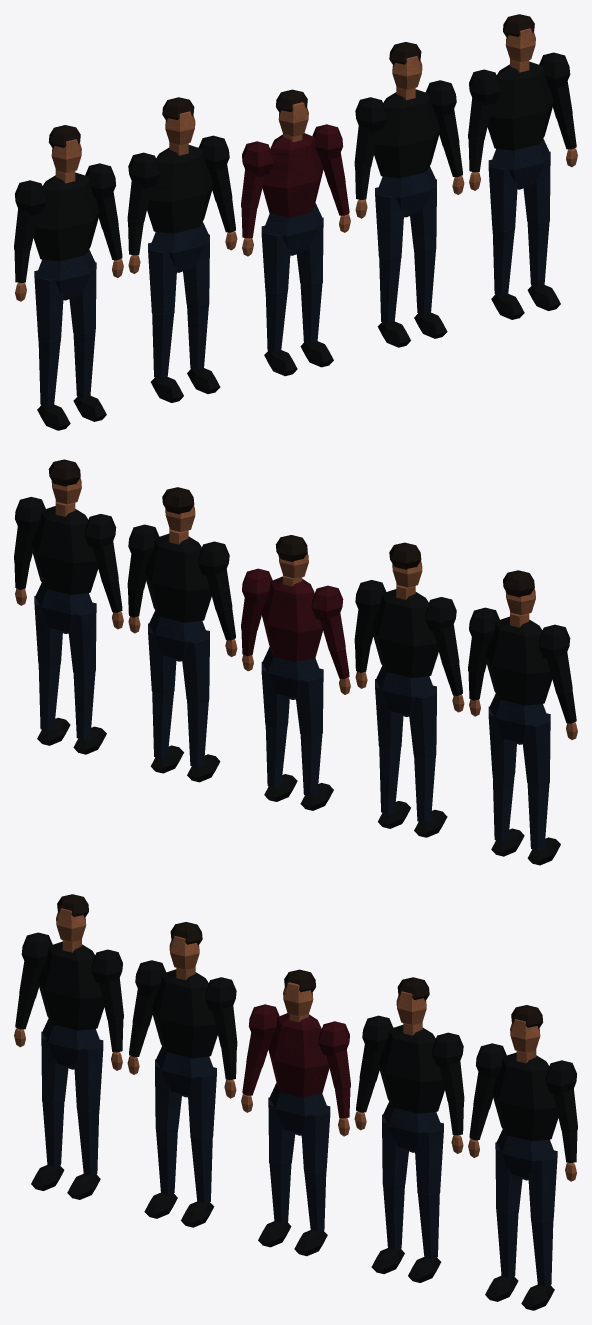
File: PROP-CF476531CEB6_lod2.glb
3 renders of one model, top to bottom at view 1: azimuth 30°, elevation 25°; view 2: azimuth 150°, elevation 25°; view 3: azimuth 330°, elevation 25°, orthographic.
Visible parts, largest first — view 1: torso.011, thigh.010, calf.010, pelvis.010, shoulder.011, shoe.010, upper_arm.011, head.010, torso.012, forearm.011, hair_cap.010, hand.010 (+4 smaller); view 2: torso.011, thigh.010, calf.010, pelvis.010, shoulder.011, shoe.010, upper_arm.011, torso.012, hair_cap.010, forearm.011, head.010, shoulder.012 (+4 smaller); view 3: torso.011, thigh.010, calf.010, pelvis.010, shoulder.011, shoe.010, upper_arm.011, head.010, torso.012, forearm.011, hair_cap.010, hand.010 (+4 smaller).
Part boxes in pixels (x1,y1,x2,y2): torso.011: (33, 61, 553, 261); thigh.010: (34, 151, 550, 342); calf.010: (38, 222, 549, 406); pelvis.010: (35, 138, 549, 300); shoulder.011: (15, 52, 570, 215); shoe.010: (37, 285, 560, 430); upper_arm.011: (14, 81, 572, 249); head.010: (51, 28, 535, 172); torso.012: (262, 133, 323, 217); forearm.011: (14, 116, 576, 282); hair_cap.010: (48, 14, 534, 148); hand.010: (15, 148, 577, 301); torso.011: (31, 506, 552, 705); thigh.010: (34, 596, 550, 785); calf.010: (38, 664, 549, 850); pelvis.010: (35, 583, 549, 744); shoulder.011: (15, 497, 570, 660); shoe.010: (37, 717, 560, 865); upper_arm.011: (14, 526, 572, 693); torso.012: (261, 576, 322, 661); hair_cap.010: (48, 459, 534, 597); forearm.011: (14, 561, 576, 723); head.010: (51, 478, 535, 615); shoulder.012: (242, 568, 343, 621); torso.011: (38, 941, 558, 1141); thigh.010: (41, 1031, 557, 1222); calf.010: (42, 1102, 553, 1286); pelvis.010: (42, 1018, 556, 1180); shoulder.011: (21, 932, 576, 1095); shoe.010: (31, 1165, 554, 1310); upper_arm.011: (19, 961, 577, 1129); head.010: (56, 908, 540, 1052); torso.012: (268, 1013, 329, 1097); forearm.011: (15, 996, 577, 1162); hair_cap.010: (57, 894, 543, 1028); hand.010: (14, 1028, 576, 1181).
Size of the model in its own units: 3.72 by 1.84 by 0.3218.
5 materials, 5 textured.
